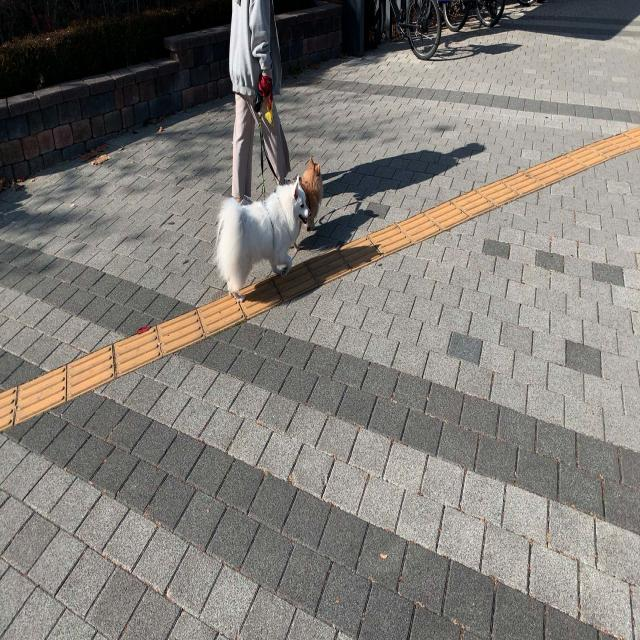Leashed_Dog: (217, 110, 312, 302), (253, 110, 323, 230)
